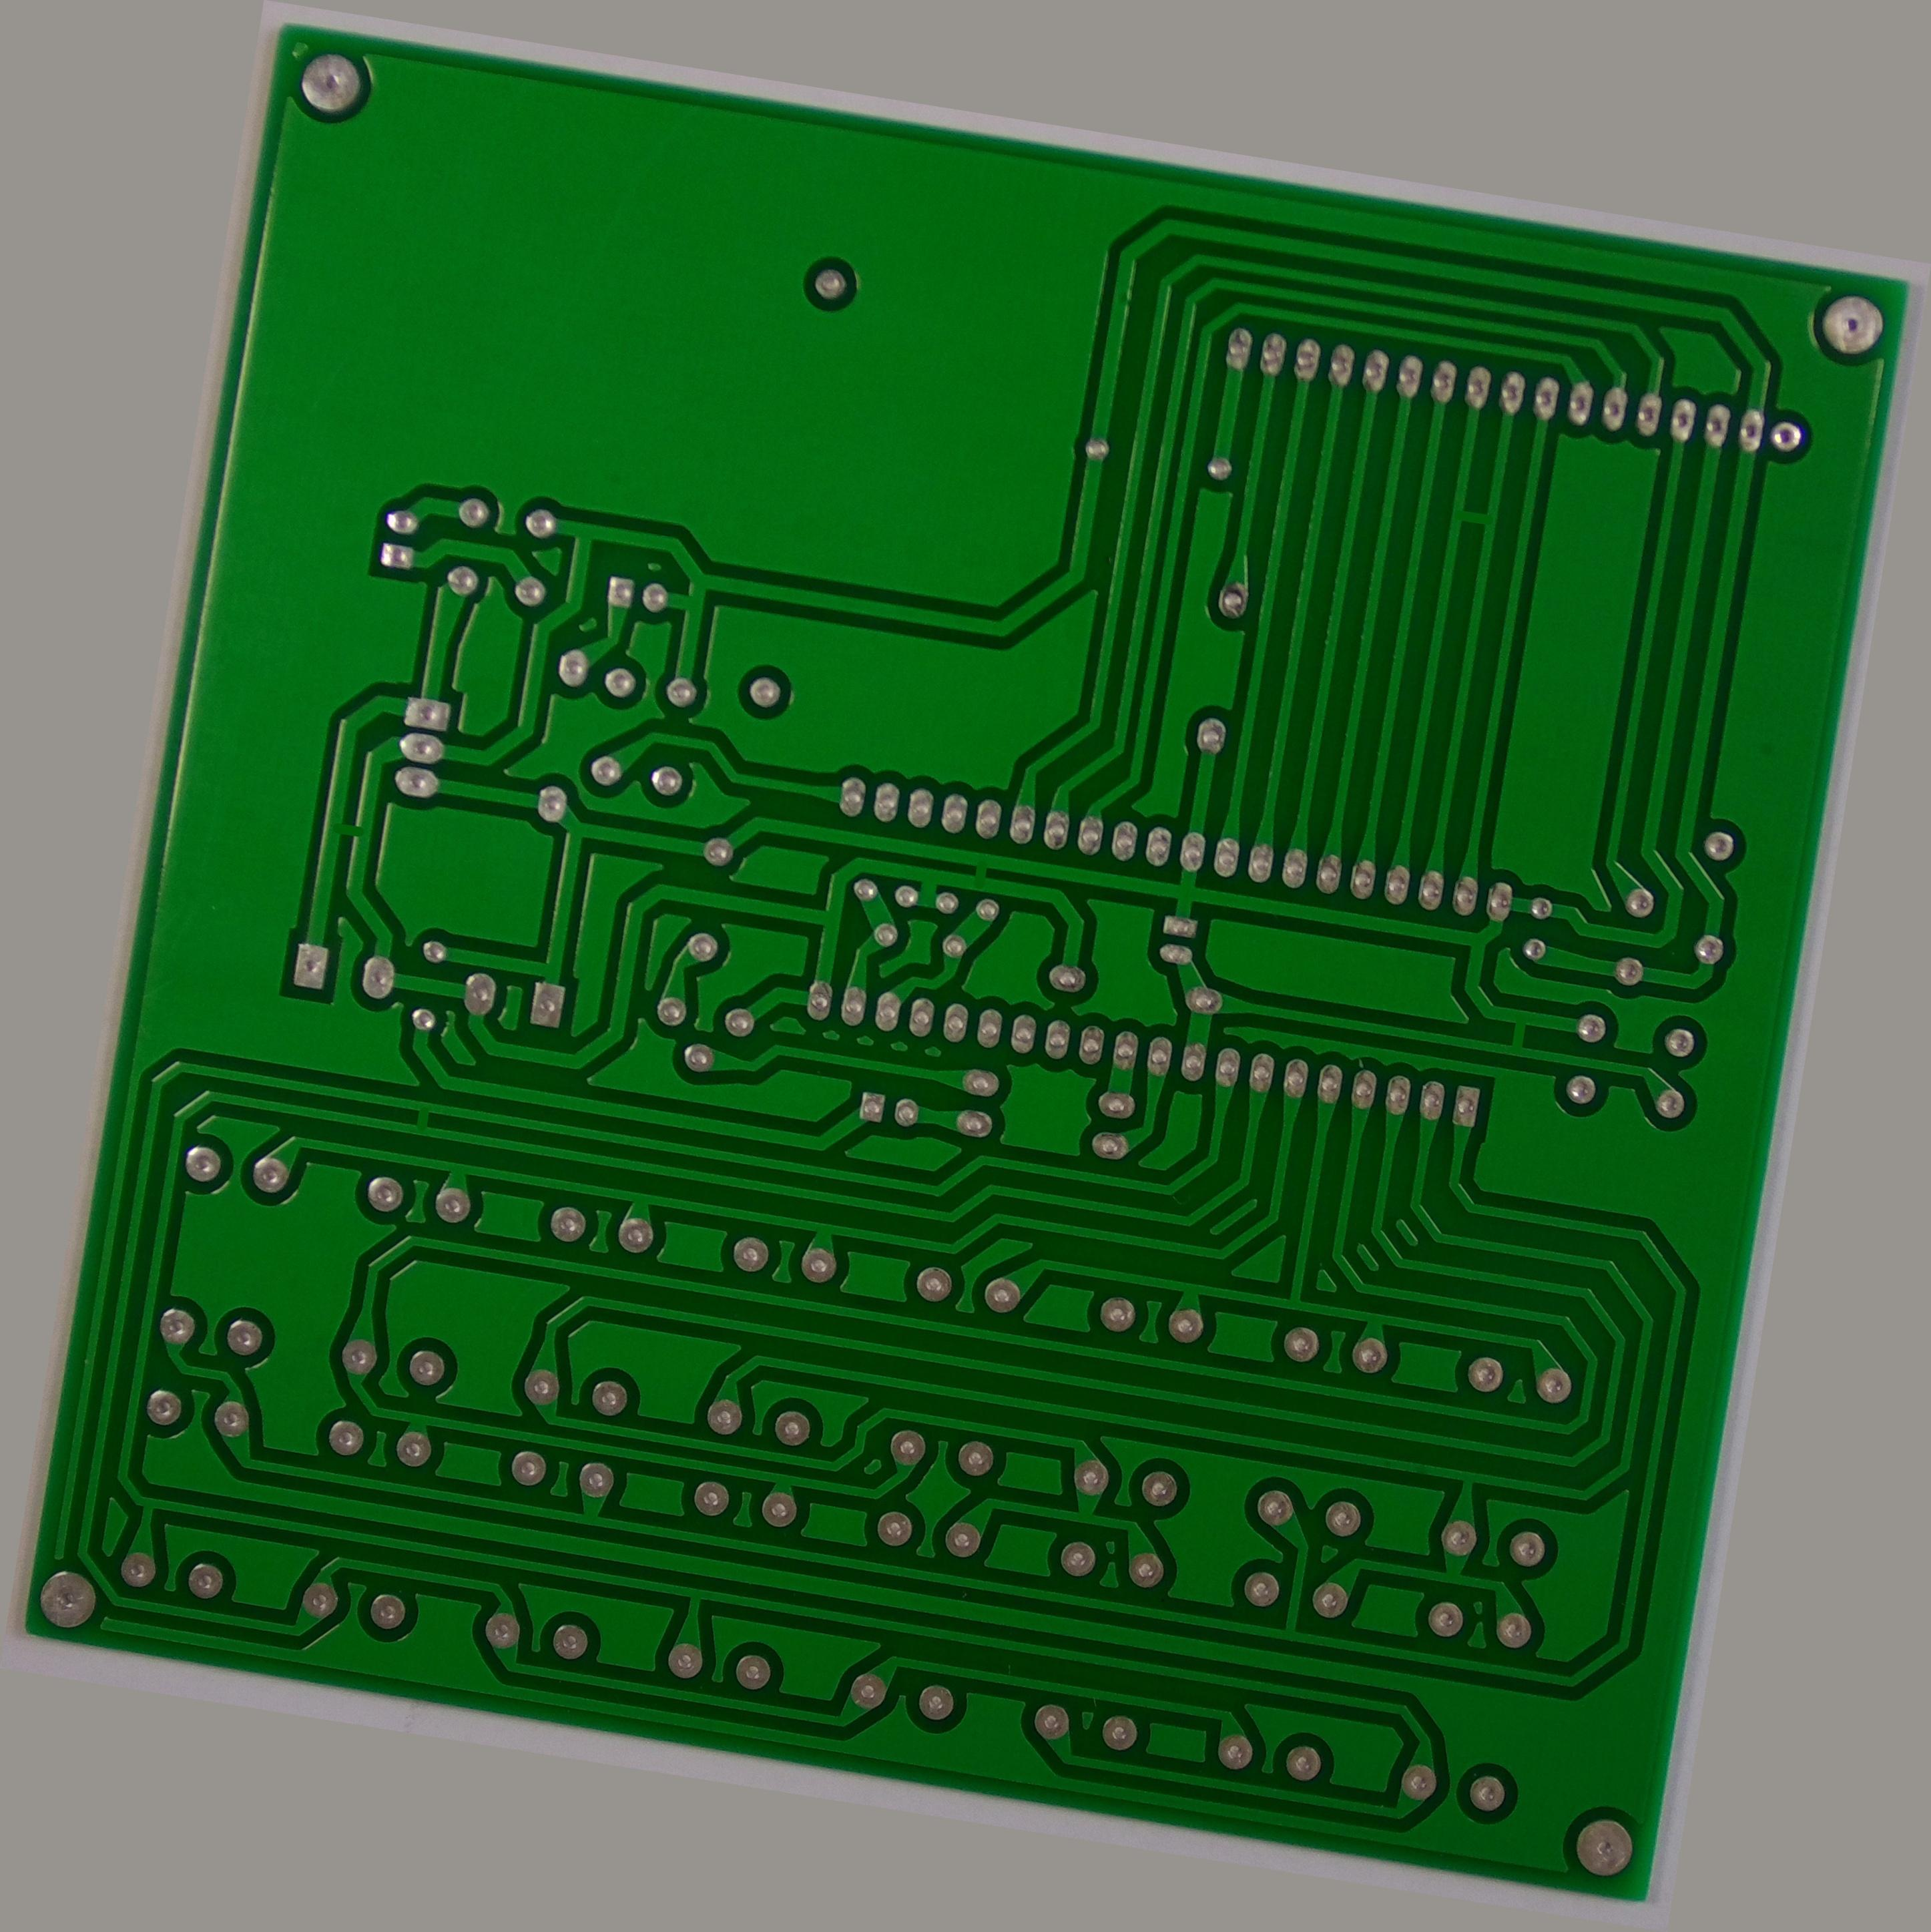short: (209, 895, 281, 943), (1579, 904, 1625, 977), (1423, 345, 1494, 391), (357, 1208, 398, 1261), (939, 830, 983, 876)
